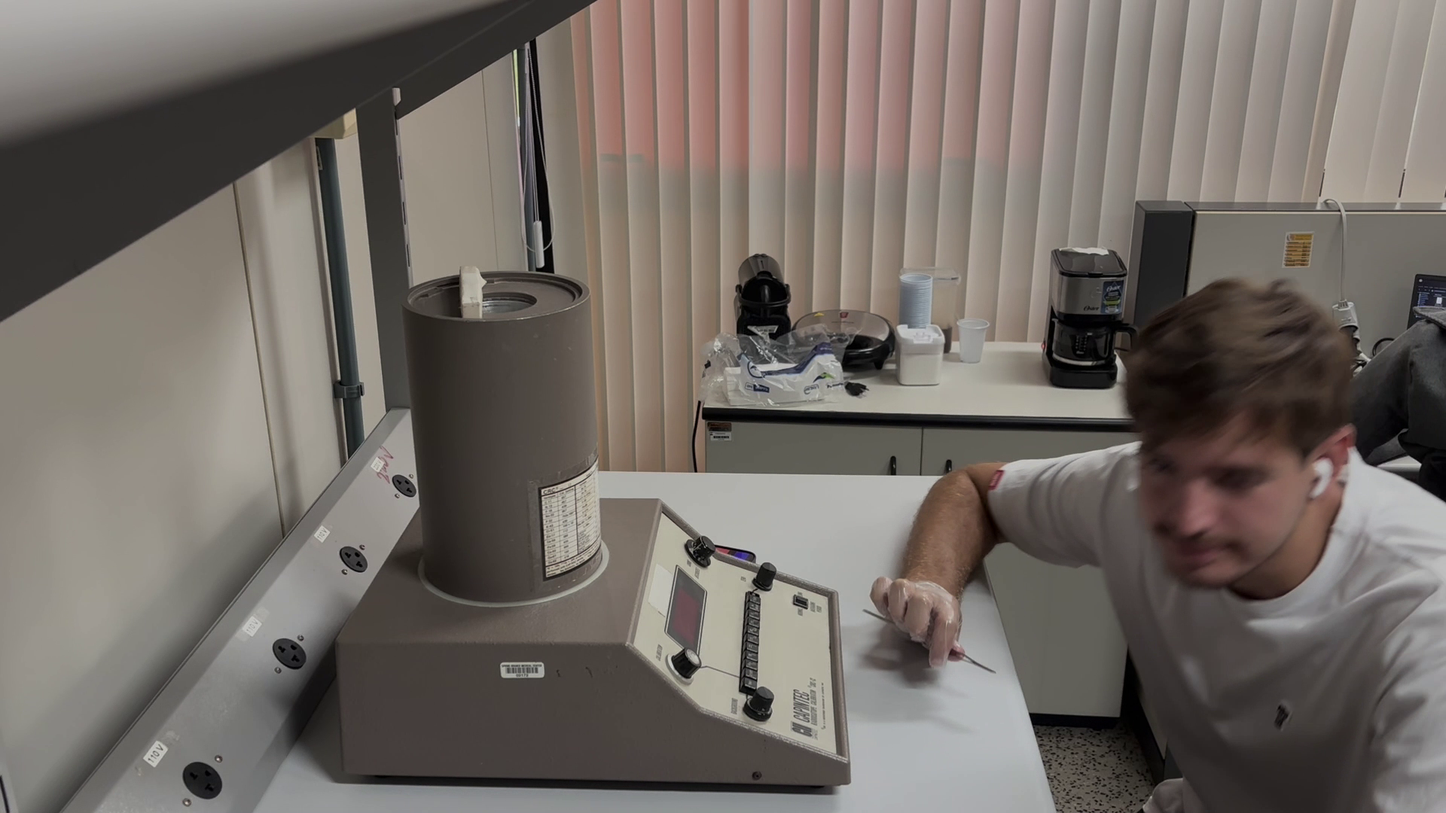Ativimetro: (398, 267, 609, 606)
Com_Luva: (869, 571, 961, 665)
